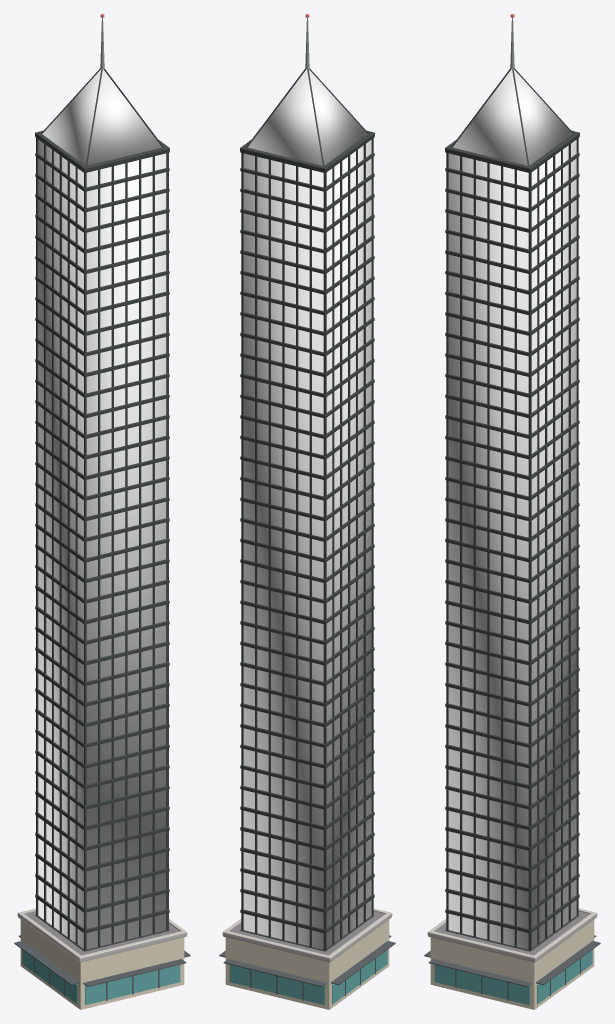
Rendered from tower_slim_pyramid.glb.
The picture shows the model from 3 angles, left to right: view 1: azimuth 30°, elevation 25°; view 2: azimuth 150°, elevation 25°; view 3: azimuth 330°, elevation 25°; orthographic projection.
Parts seen in each view (by area): view 1: curtain, tower trim, mullions, tower props; view 2: curtain, tower trim, mullions, tower props; view 3: curtain, tower trim, mullions, tower props.
Boxes of the visible parts, x1,y1,x2,y2 form: curtain: (38,69,166,949); tower trim: (17,130,187,1009); mullions: (34,68,168,1000); tower props: (14,14,190,1005); curtain: (243,69,371,949); tower trim: (222,130,392,1009); mullions: (241,68,375,1000); tower props: (219,14,395,1005); curtain: (448,69,576,949); tower trim: (427,130,597,1009); mullions: (446,68,580,1000); tower props: (424,14,600,1005).
Bounding box in the file's own units: 21.9 × 168 × 21.9.
